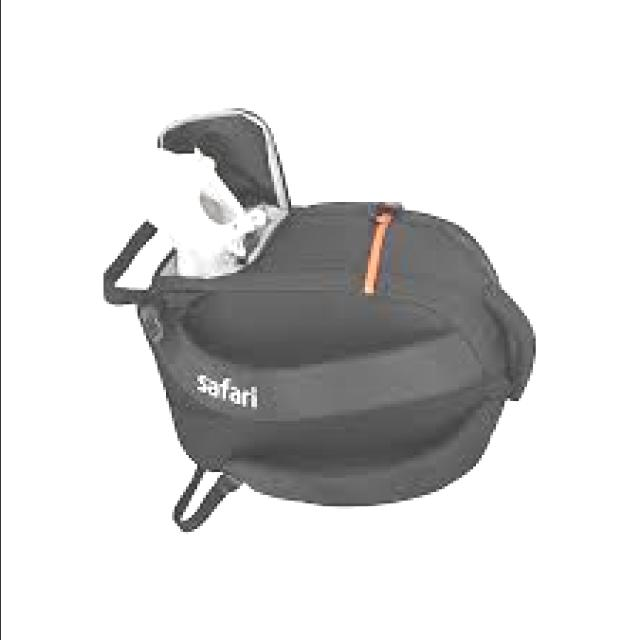backpack: (104, 107, 539, 533)
